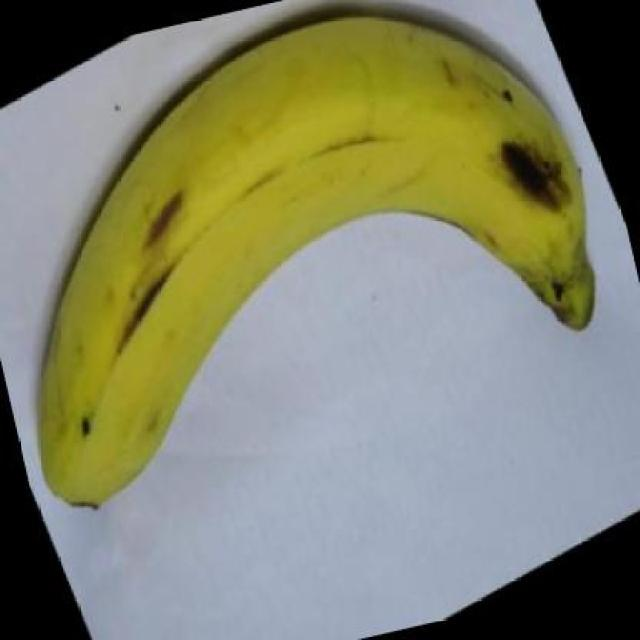ripe: (0, 4, 623, 518)
